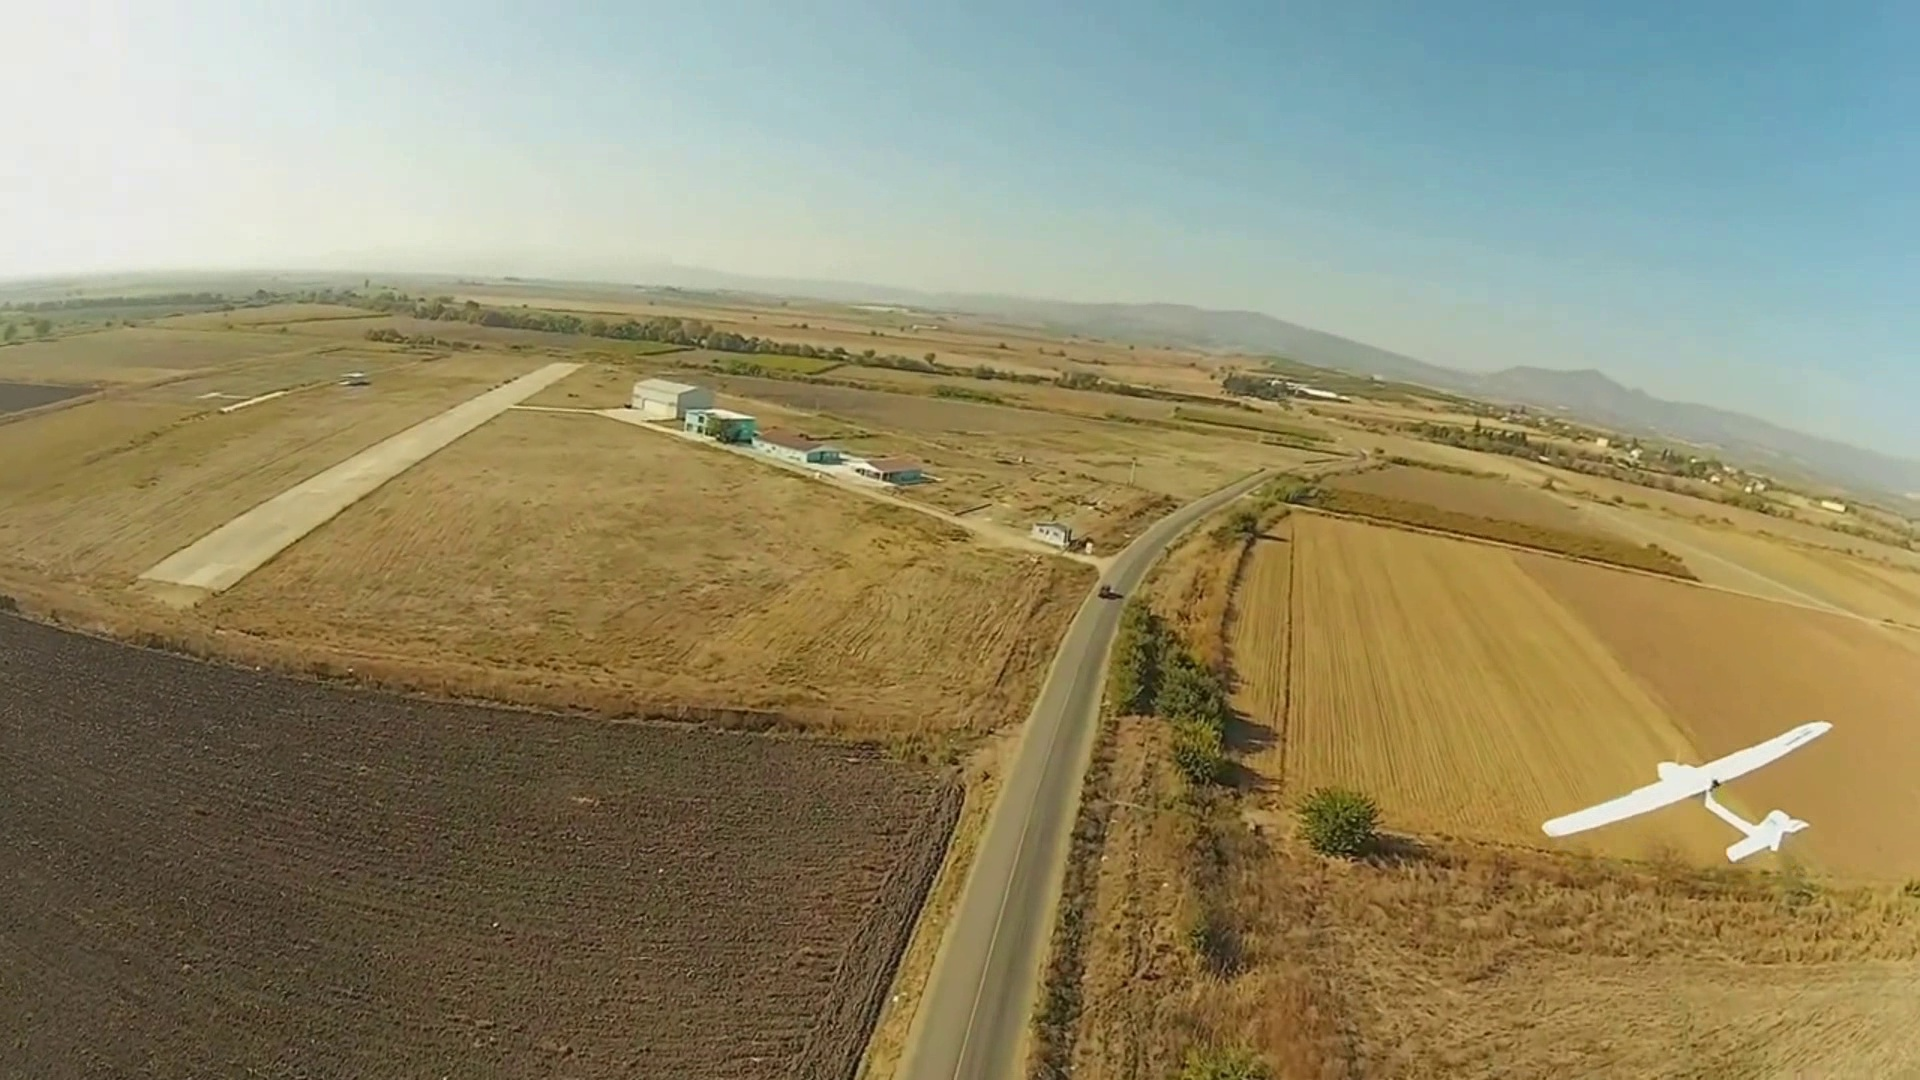airplane: (1540, 719, 1833, 872)
